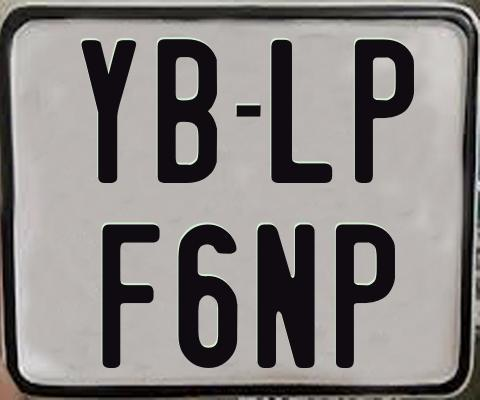6: (178, 223, 243, 371)
B: (155, 36, 217, 184)
F: (99, 223, 159, 371)
L: (270, 40, 334, 189)
N: (256, 221, 319, 369)
P: (336, 224, 399, 373), (352, 39, 411, 188)
Y: (78, 40, 133, 183)
